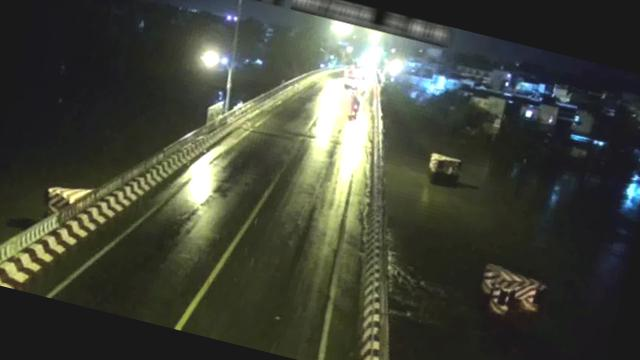Bike: (346, 94, 364, 118)
